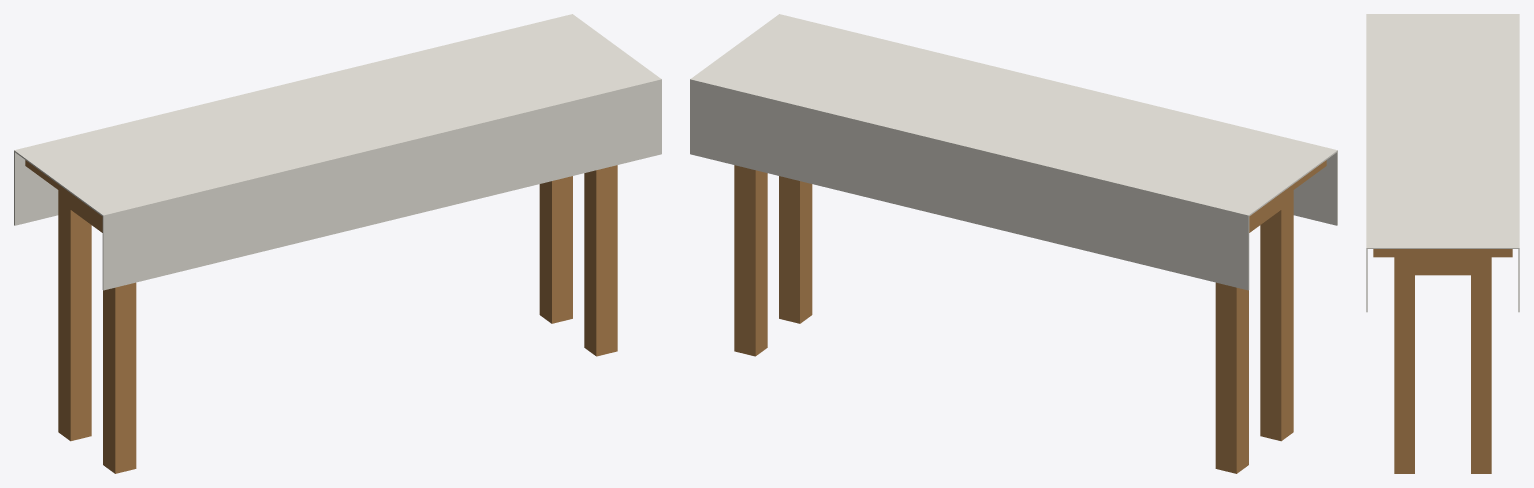
3 renders of one model, left to right at view 1: azimuth 30°, elevation 25°; view 2: azimuth 150°, elevation 25°; view 3: azimuth 270°, elevation 25°, orthographic. The views are drawn at different scales.
Visible parts, largest first — view 1: parametric-variant-table-2nd-pub-629f2047466434616566; view 2: parametric-variant-table-2nd-pub-629f2047466434616566; view 3: parametric-variant-table-2nd-pub-629f2047466434616566.
Boxes of the visible parts, x1,y1,x2,y2 form: parametric-variant-table-2nd-pub-629f2047466434616566: (14, 14, 661, 473); parametric-variant-table-2nd-pub-629f2047466434616566: (690, 14, 1337, 473); parametric-variant-table-2nd-pub-629f2047466434616566: (1366, 14, 1519, 473).
Size of the model in its own units: 1.59 by 0.754 by 0.44.
